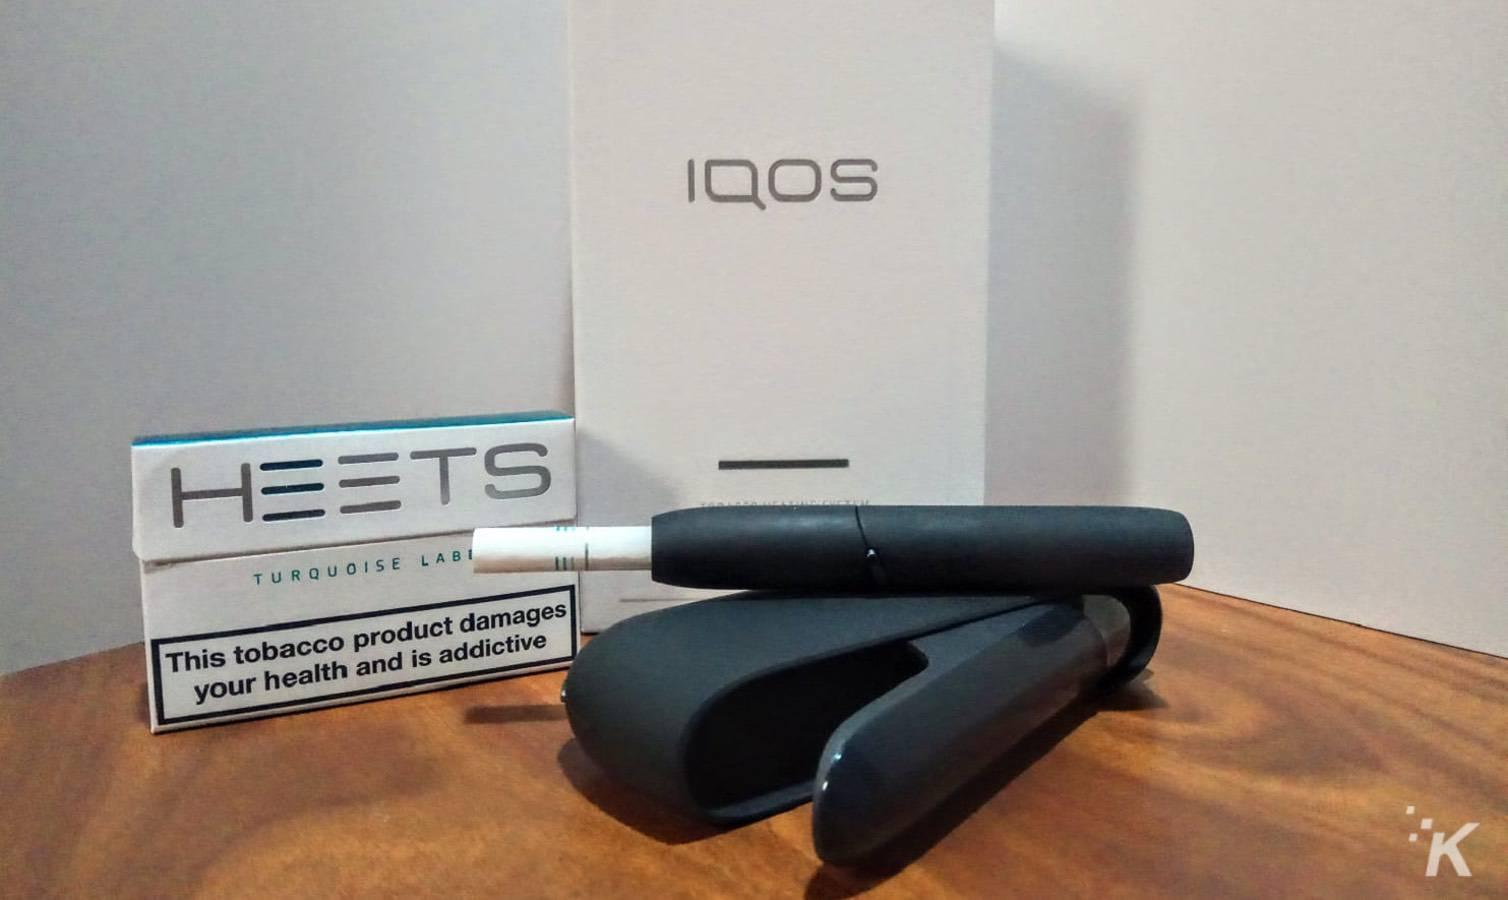iqos: (472, 506, 1193, 594)
